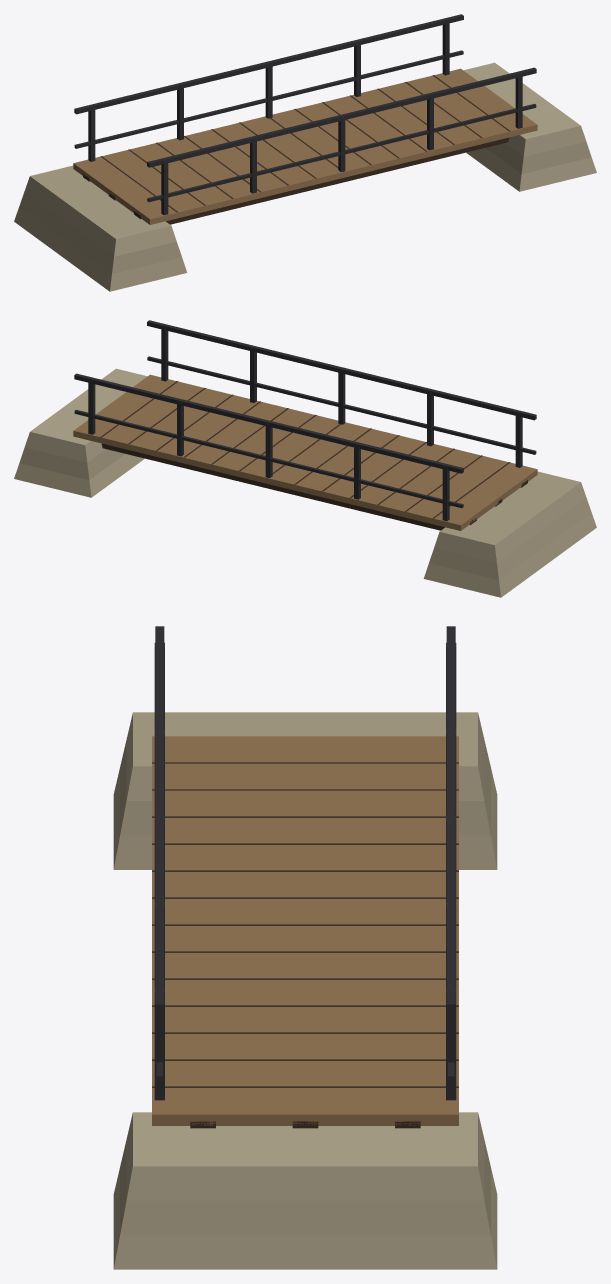
Rendered from bridge.glb.
The picture shows the model from 3 angles, top to bottom: view 1: azimuth 30°, elevation 25°; view 2: azimuth 150°, elevation 25°; view 3: azimuth 270°, elevation 25°; orthographic projection. The views are drawn at different scales.
Visible parts, largest first — view 1: bridge; view 2: bridge; view 3: bridge.
Boxes of the visible parts, x1,y1,x2,y2 form: bridge: (14,14,596,291); bridge: (14,320,596,597); bridge: (113,626,497,1269).
Size of the model in its own units: 8.8 by 1.87 by 3.
